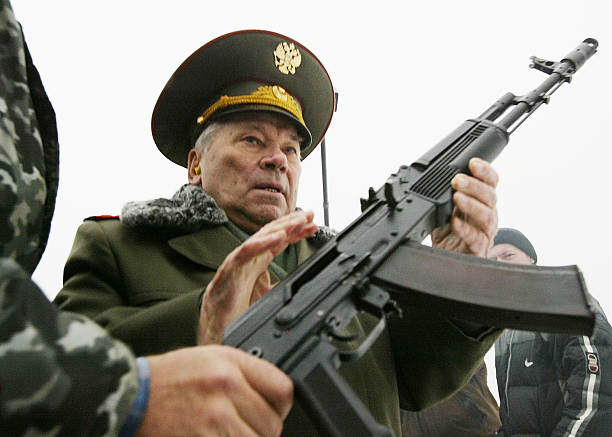rifle: (201, 28, 605, 405)
